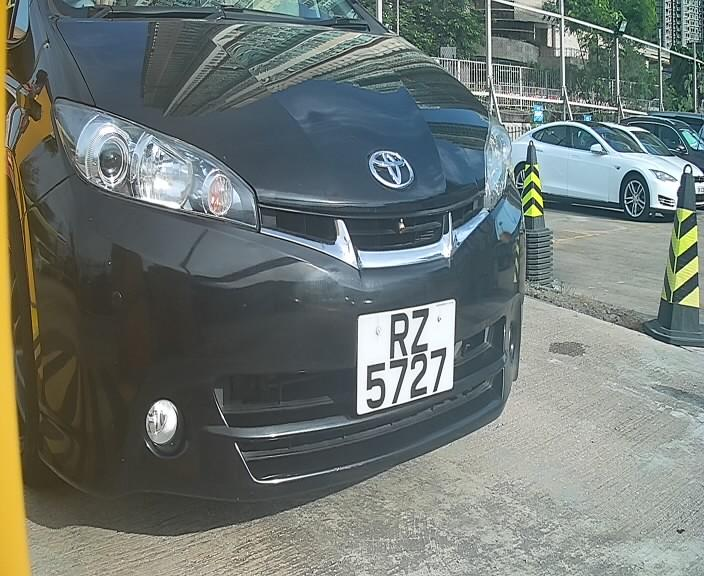License Plate: (353, 291, 463, 422)
